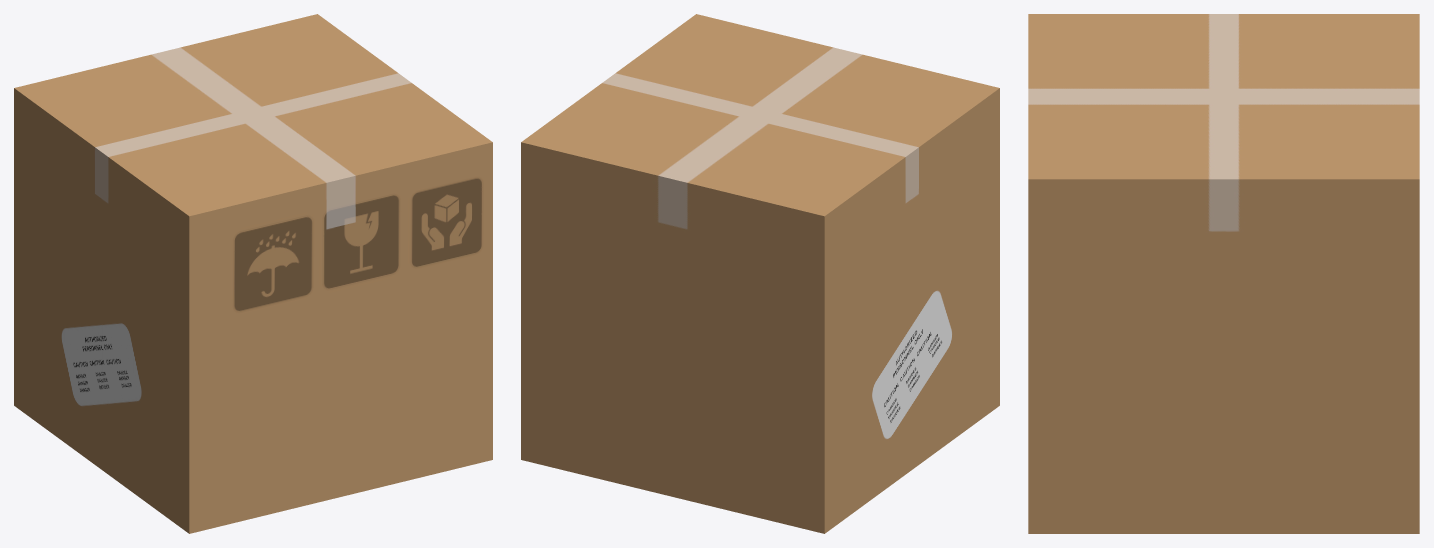
3 views of the same model, side by side, from view 1: azimuth 30°, elevation 25°; view 2: azimuth 150°, elevation 25°; view 3: azimuth 270°, elevation 25° (orthographic). The views are drawn at different scales.
Visible parts, largest first — view 1: box; view 2: box; view 3: box.
Part boxes in pixels (left/top/right/bottom): box: left=14, top=14, right=492, bottom=533; box: left=521, top=14, right=999, bottom=533; box: left=1028, top=14, right=1419, bottom=533.
Bounding box in the file's own units: 78.9 × 78.9 × 78.9.
Materials: 1 (1 with a texture image).
